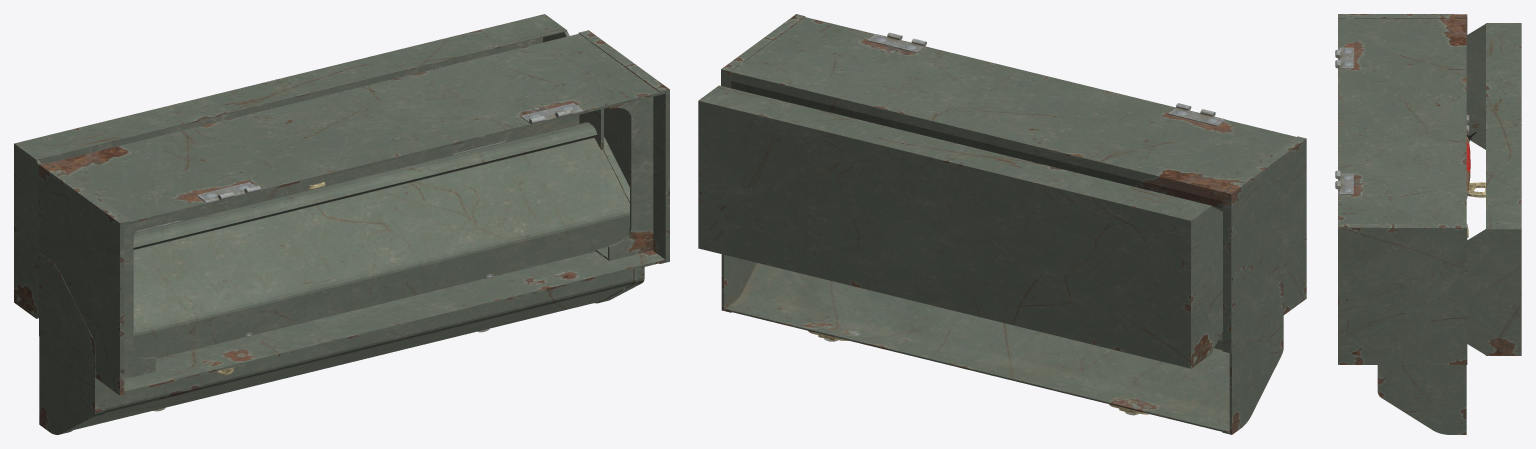
The model's file is metal_toolbox.obj.
3 renders of one model, left to right at view 1: azimuth 30°, elevation 25°; view 2: azimuth 150°, elevation 25°; view 3: azimuth 270°, elevation 25°, orthographic. The views are drawn at different scales.
Size of the model in its own units: 0.38 by 0.18 by 0.14.
Materials: 1 (1 with a texture image).
